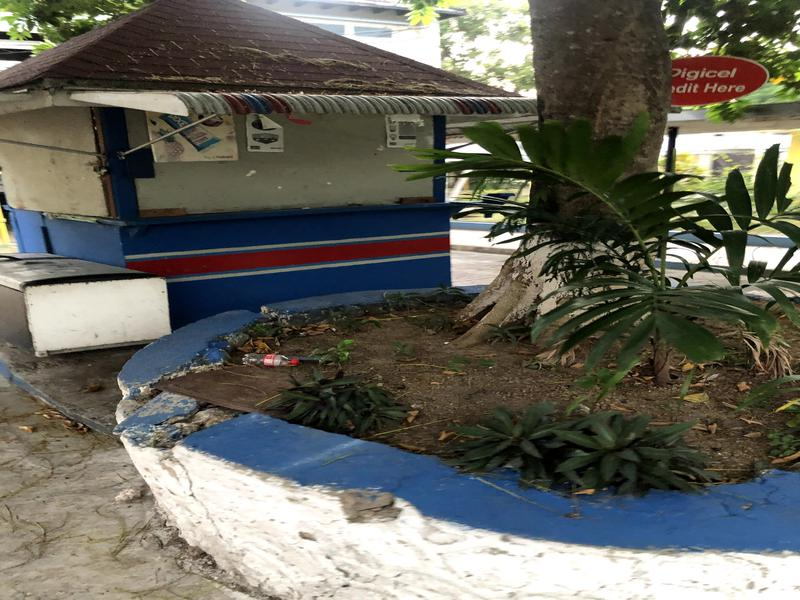18.0050609_-76.7496662_auntyjackie: (2, 1, 543, 362)
